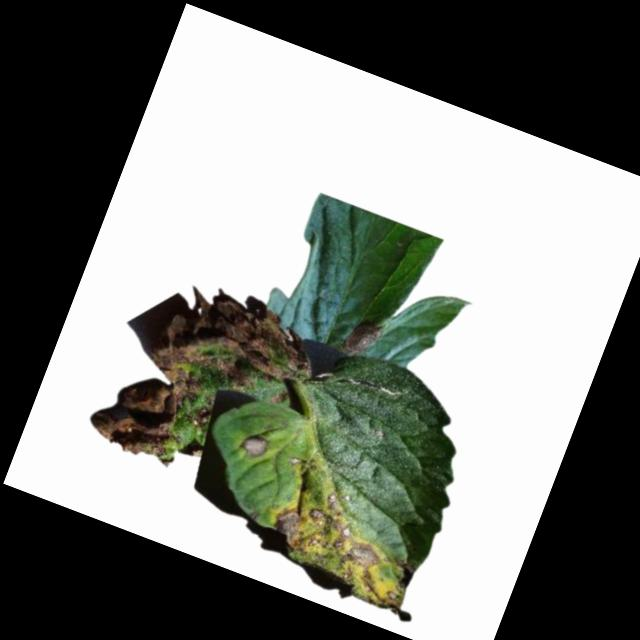Early_blight: (85, 264, 325, 503), (259, 479, 429, 614), (340, 312, 389, 362), (237, 428, 273, 464)
